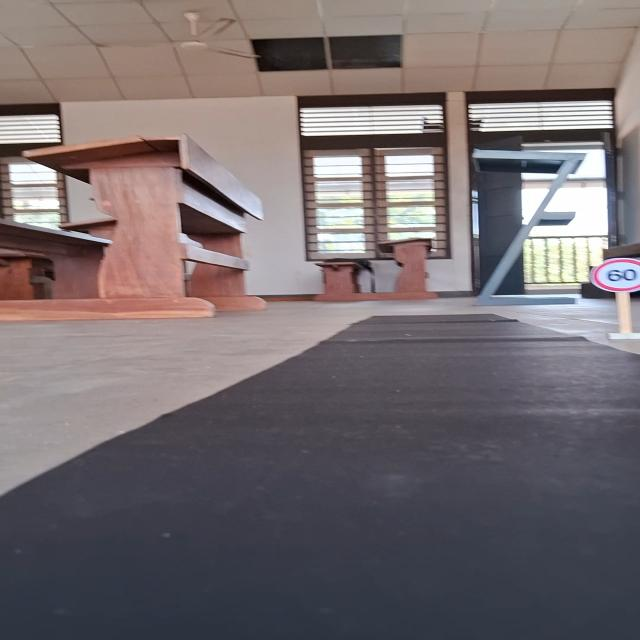Speed60: (587, 257, 640, 293)
